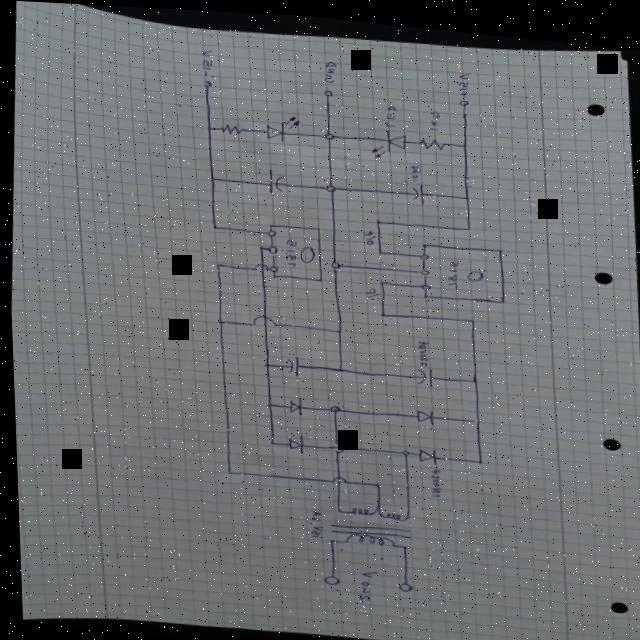capacitor: (265, 165, 286, 192), (411, 362, 436, 384), (280, 351, 302, 375), (408, 177, 428, 203)
crossover: (249, 312, 277, 326), (330, 435, 343, 451), (327, 471, 344, 481), (252, 260, 267, 270)
diode: (365, 122, 412, 157), (262, 109, 302, 141), (412, 441, 437, 461), (410, 403, 434, 422), (283, 430, 304, 451), (284, 393, 304, 413)
junction: (323, 179, 339, 191), (325, 400, 340, 410), (322, 127, 335, 138), (330, 257, 340, 266), (397, 445, 408, 453), (469, 372, 477, 379), (208, 173, 216, 180), (373, 214, 381, 221), (205, 123, 214, 129), (263, 399, 271, 405), (261, 359, 269, 365), (214, 259, 222, 265), (467, 313, 475, 319), (335, 363, 343, 369), (460, 138, 468, 144), (464, 220, 472, 226), (334, 325, 342, 331), (462, 190, 471, 195), (210, 222, 217, 228), (472, 413, 479, 419), (215, 317, 223, 322), (473, 454, 481, 459), (377, 308, 385, 313), (223, 467, 231, 472), (375, 245, 383, 250), (266, 437, 273, 442), (372, 479, 379, 484), (257, 242, 263, 247), (378, 276, 385, 280)
resistor: (418, 131, 448, 147), (219, 120, 244, 133)
terminal: (318, 570, 338, 583), (393, 576, 410, 588), (459, 93, 470, 103), (323, 85, 334, 94), (202, 77, 213, 86)
text: (352, 565, 377, 599), (302, 505, 322, 536), (453, 65, 473, 93), (198, 44, 216, 75), (424, 462, 441, 494), (444, 254, 461, 285), (282, 235, 299, 266), (414, 335, 430, 363), (322, 55, 339, 81), (406, 157, 424, 179), (385, 99, 399, 125), (362, 282, 380, 300), (360, 224, 377, 242), (428, 105, 441, 127)
transformer: (324, 495, 414, 551)
